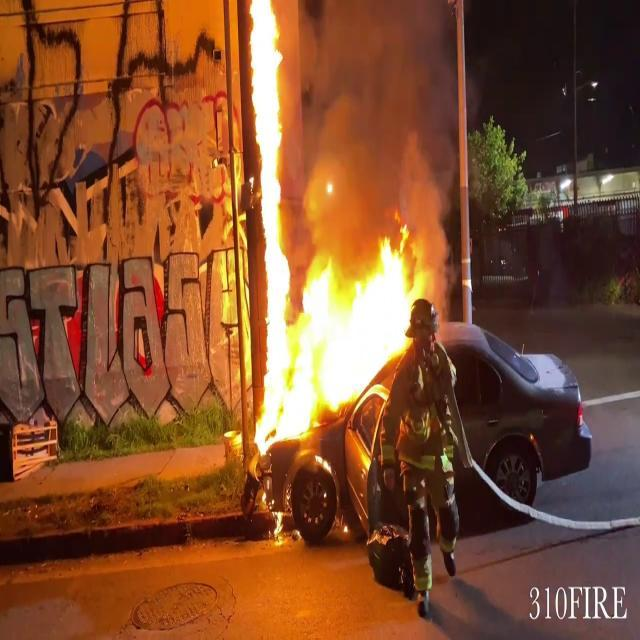Fire: (250, 215, 432, 445), (244, 0, 292, 447)
Smoke: (286, 0, 459, 234)
